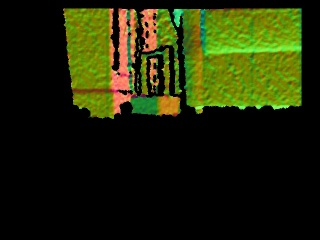station: (130, 47, 183, 117)
